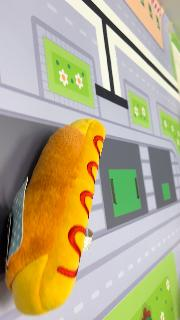hotdog: (5, 118, 107, 316)
